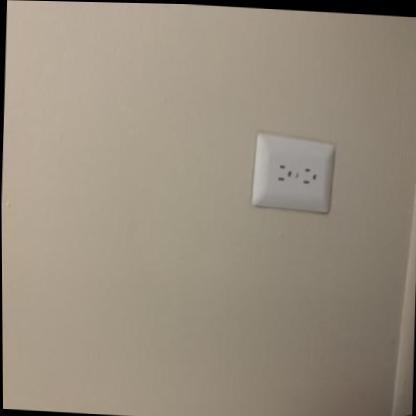OUTLET: (252, 136, 334, 211)
